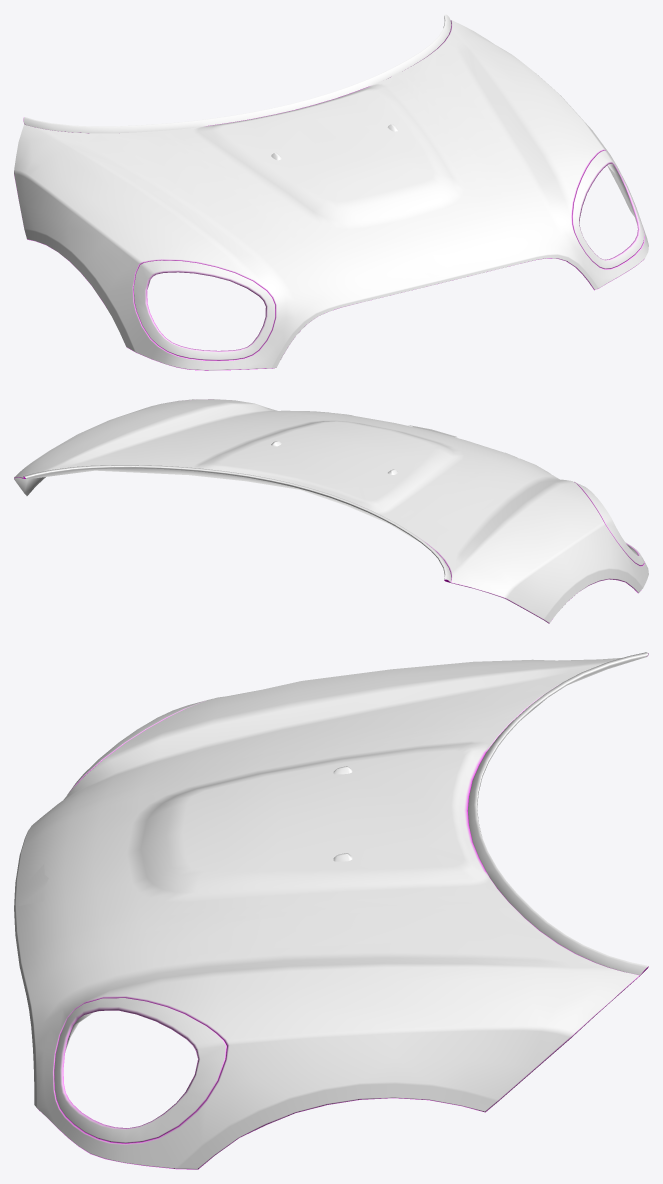
Rendered from Car_Mini_CountrymanJCW_2017_Hood_SetB.fbx.
3 views of the same model, one above another, from view 1: azimuth 30°, elevation 25°; view 2: azimuth 150°, elevation 25°; view 3: azimuth 270°, elevation 25° (orthographic). The views are drawn at different scales.
Parts seen in each view (by area): view 1: Hood 6; view 2: Hood 6; view 3: Hood 6.
Boxes of the visible parts, box(x1,y1,x2,y2) form: Hood 6: box(14, 14, 648, 370); Hood 6: box(14, 399, 648, 623); Hood 6: box(14, 652, 648, 1169).
Bounding box in the file's own units: 1.78 × 0.3896 × 1.23.
